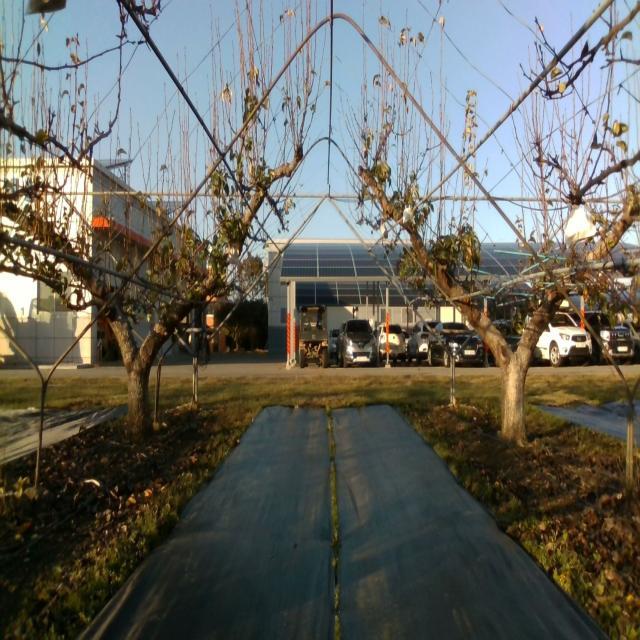pearbags: (564, 202, 596, 249), (226, 244, 240, 264)
